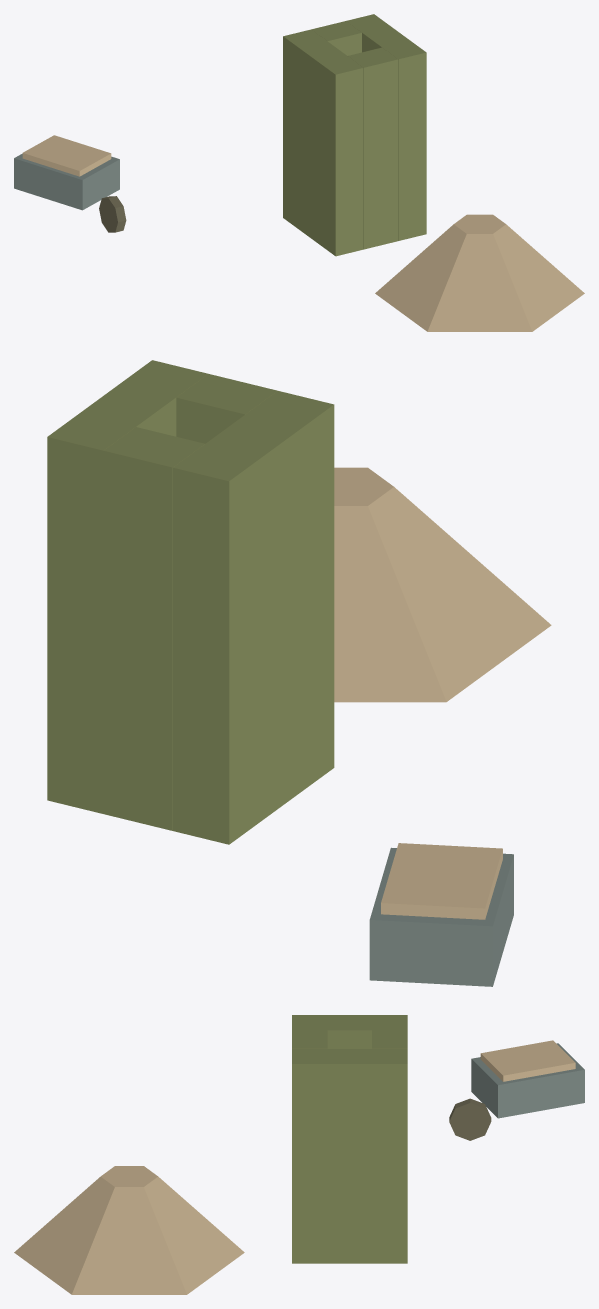
Rendered from SM_ObraHescoAbierto_v1_10m_LOD1.fbx.
3 views of the same model, one above another, from view 1: azimuth 30°, elevation 25°; view 2: azimuth 150°, elevation 25°; view 3: azimuth 270°, elevation 25° (orthographic). The views are drawn at different scales.
Parts seen in each view (by area): view 1: SM_obra_curso_v23_LOD1; view 2: SM_obra_curso_v23_LOD1; view 3: SM_obra_curso_v23_LOD1.
Part boxes in pixels (left/top/right/bottom): SM_obra_curso_v23_LOD1: left=14, top=14, right=584, bottom=331; SM_obra_curso_v23_LOD1: left=47, top=360, right=551, bottom=986; SM_obra_curso_v23_LOD1: left=14, top=1015, right=584, bottom=1294.
Bounding box in the file's own units: 4.23 × 2.1 × 5.44.
